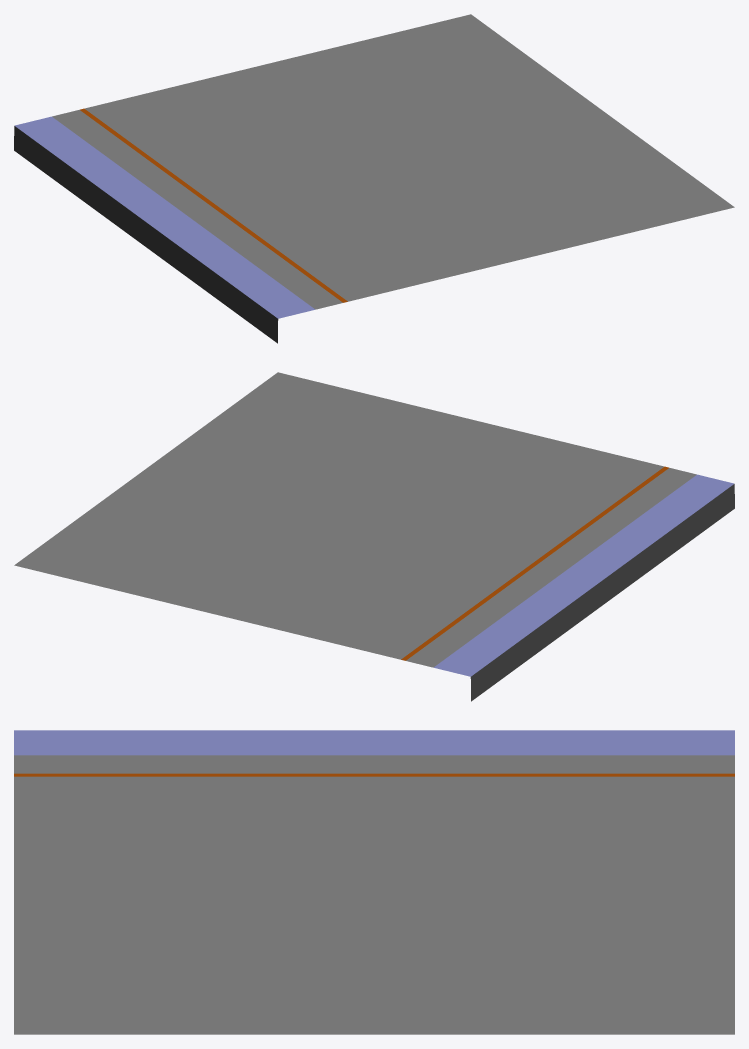
The model's file is W_M_maze_002_4x4_Bottom_L1.fbx.
3 renders of one model, top to bottom at view 1: azimuth 30°, elevation 25°; view 2: azimuth 150°, elevation 25°; view 3: azimuth 270°, elevation 25°, orthographic. The views are drawn at different scales.
Parts seen in each view (by area): view 1: W_M_maze_002_4x4_Bottom_L1; view 2: W_M_maze_002_4x4_Bottom_L1; view 3: W_M_maze_002_4x4_Bottom_L1.
Part boxes in pixels (bbox=[...]): W_M_maze_002_4x4_Bottom_L1: bbox=[14, 14, 734, 343]; W_M_maze_002_4x4_Bottom_L1: bbox=[14, 372, 734, 701]; W_M_maze_002_4x4_Bottom_L1: bbox=[14, 730, 734, 1034].
Size of the model in its own units: 4 by 0.2081 by 4.
